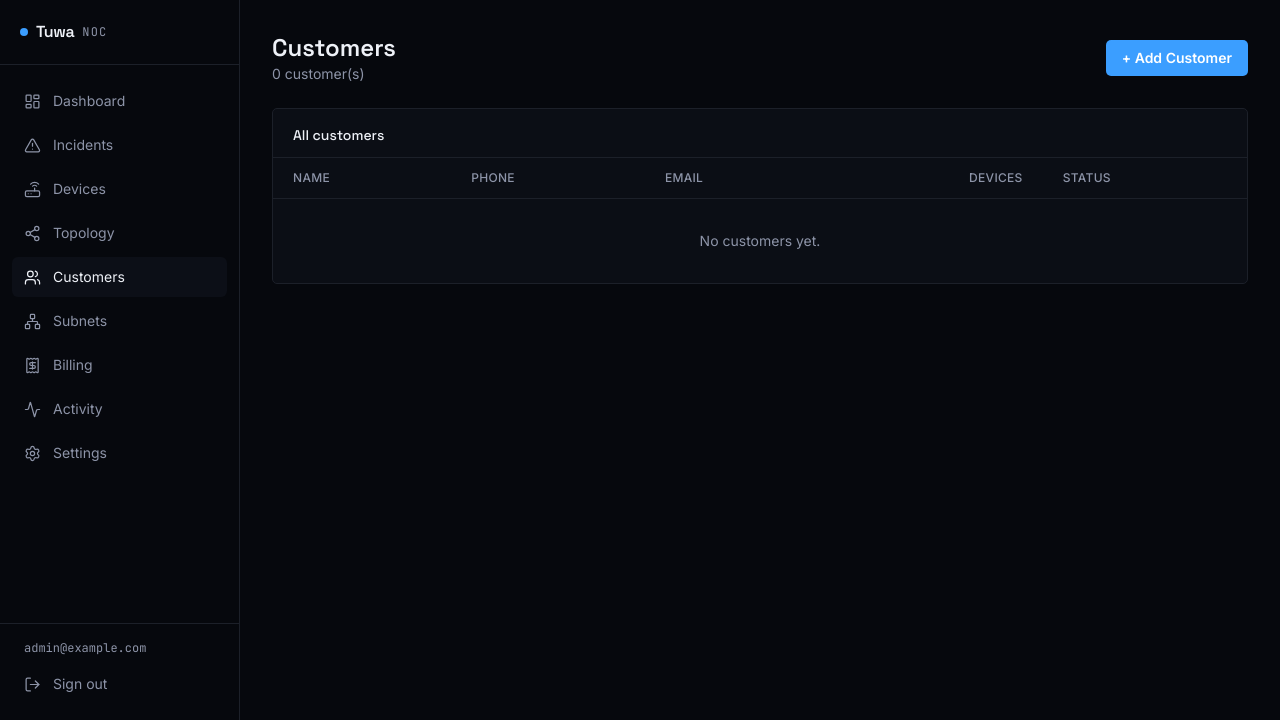
Test: Customers › opens the add-customer form when the button is clicked
Expected: the text "No customers yet." is shown, [273,198,1247,283]
Click the button "+ Add Customer" at (1177, 58), box [1106,40,1248,76]
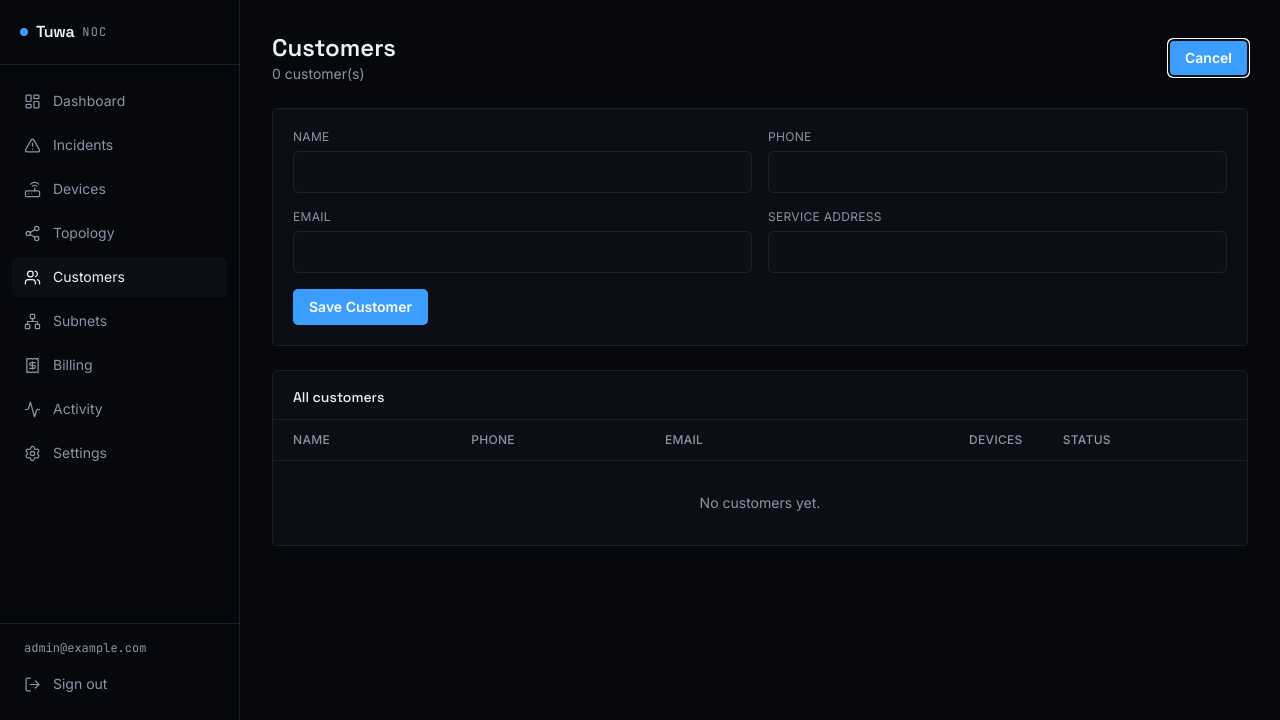
Expected: the button "Save Customer" is shown, [293,289,428,325]
